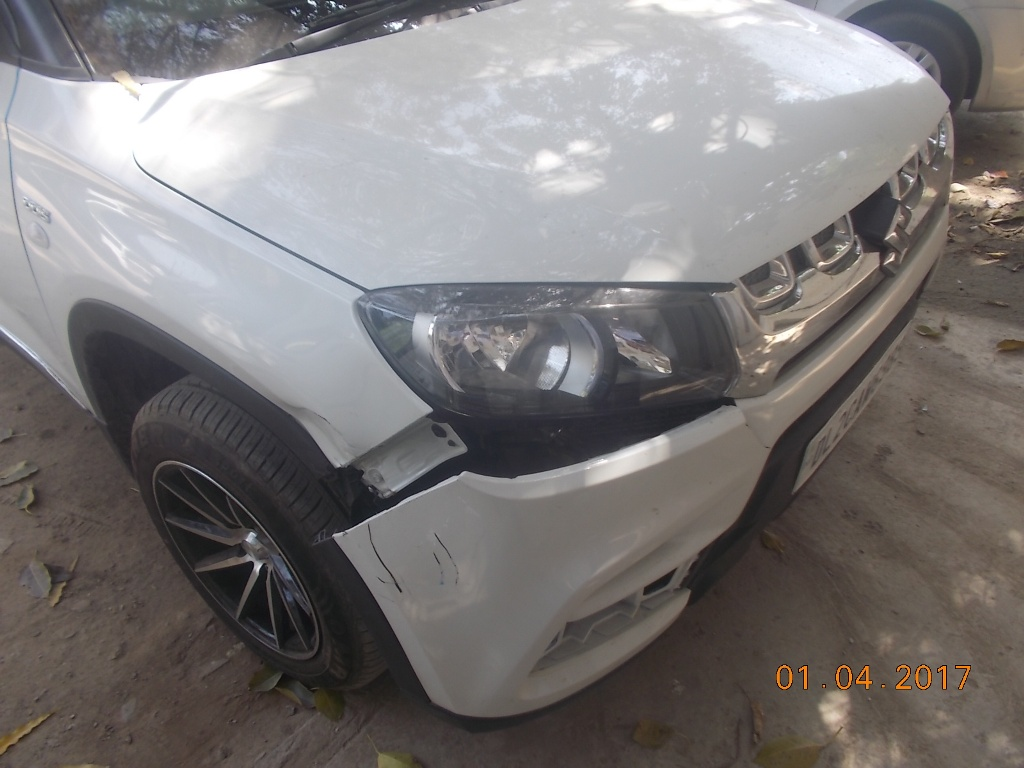Dislocation: (323, 409, 468, 525)
Scratch_or_spot: (432, 542, 475, 591), (378, 552, 411, 599)
